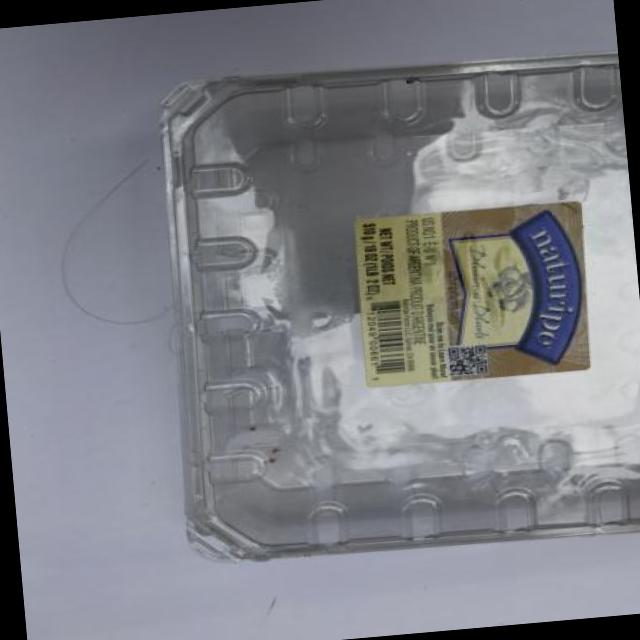plastic: (162, 53, 639, 559)
